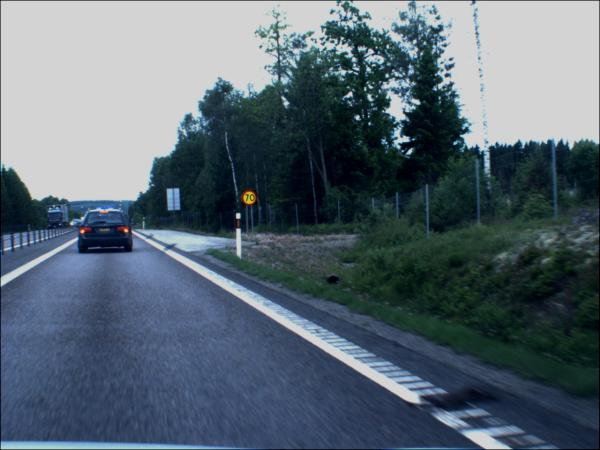70_SIGN: (243, 191, 259, 207)
